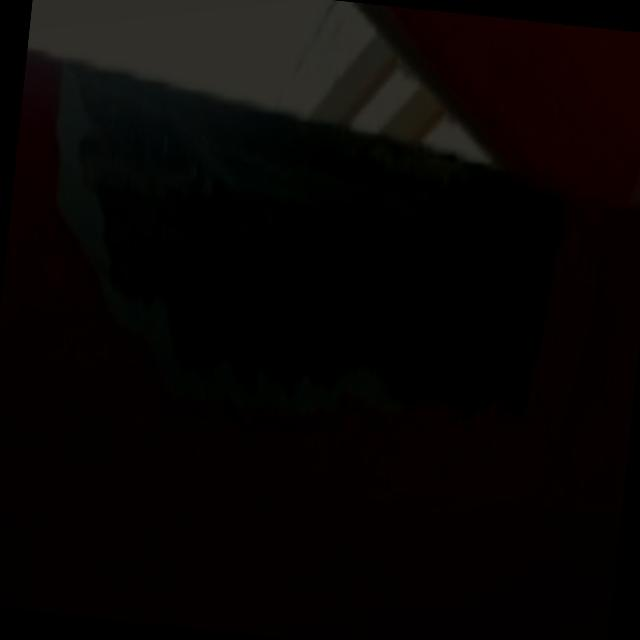surface_peeling: (16, 60, 578, 445)
